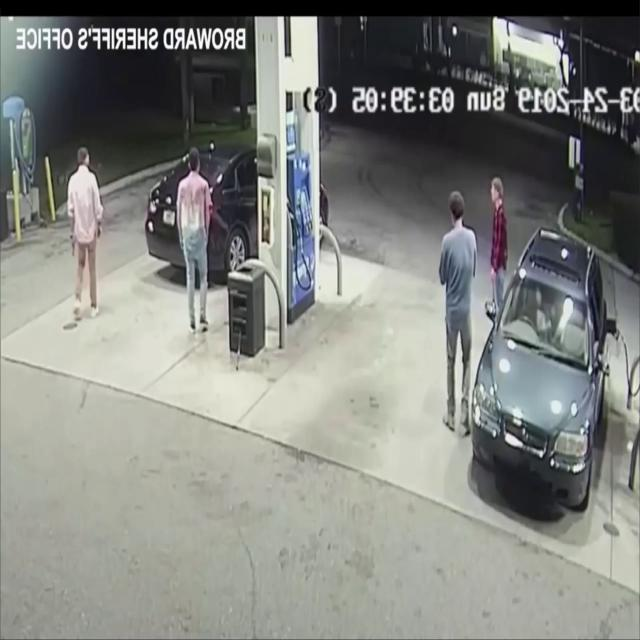Gun: (70, 236, 76, 256)
